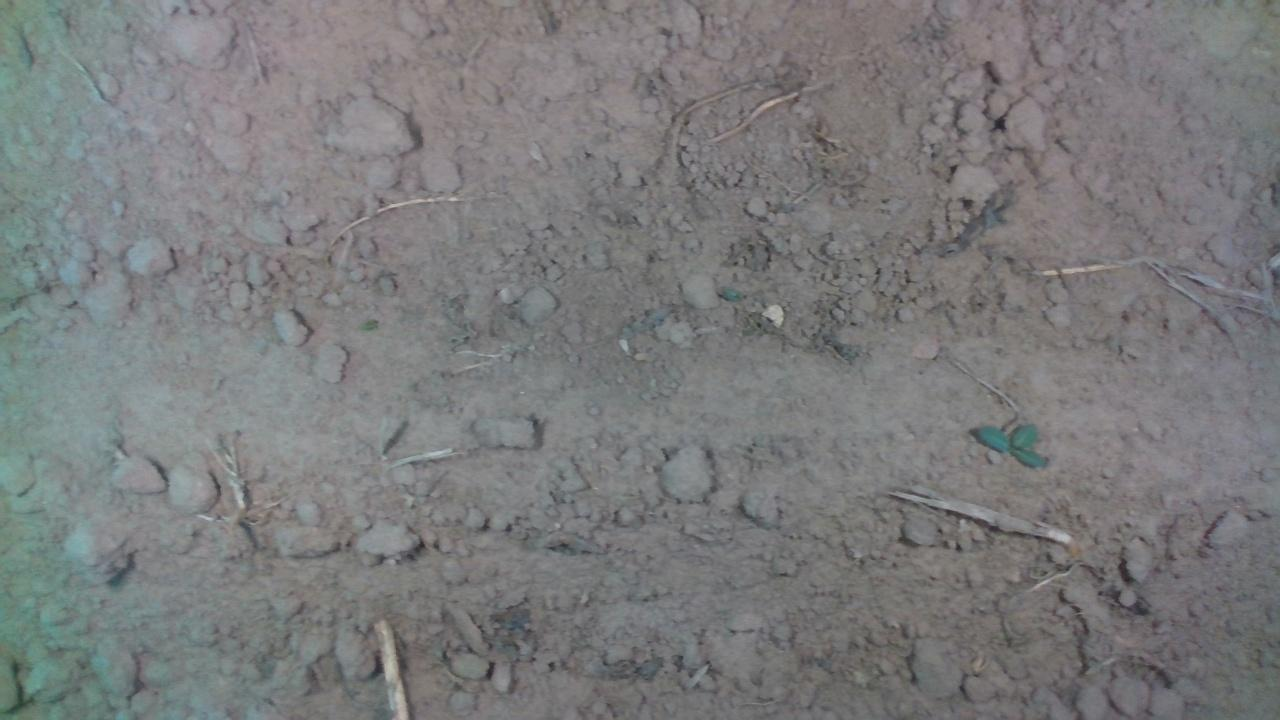weed: (974, 419, 1046, 469)
